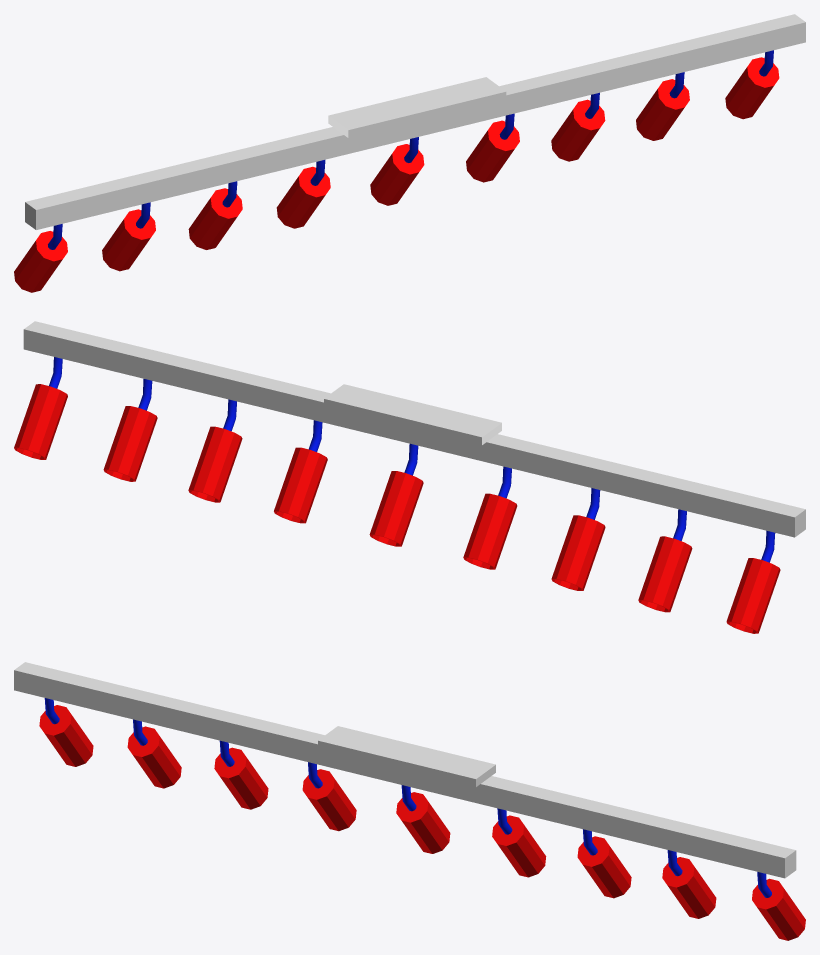
File: Track Lighting 9.fbx
3 renders of one model, top to bottom at view 1: azimuth 30°, elevation 25°; view 2: azimuth 150°, elevation 25°; view 3: azimuth 330°, elevation 25°, orthographic.
Parts seen in each view (by area): view 1: Lighting Track 9, Lights 9; view 2: Lighting Track 9, Lights 9; view 3: Lighting Track 9, Lights 9.
Part boxes in pixels (left/top/right/bottom): Lighting Track 9: left=25, top=14, right=805, bottom=229; Lights 9: left=14, top=50, right=779, bottom=292; Lighting Track 9: left=23, top=321, right=805, bottom=537; Lights 9: left=14, top=357, right=780, bottom=633; Lighting Track 9: left=14, top=662, right=796, bottom=878; Lights 9: left=39, top=698, right=805, bottom=940.
Bounding box in the file's own units: 1 × 0.1458 × 0.1023.
